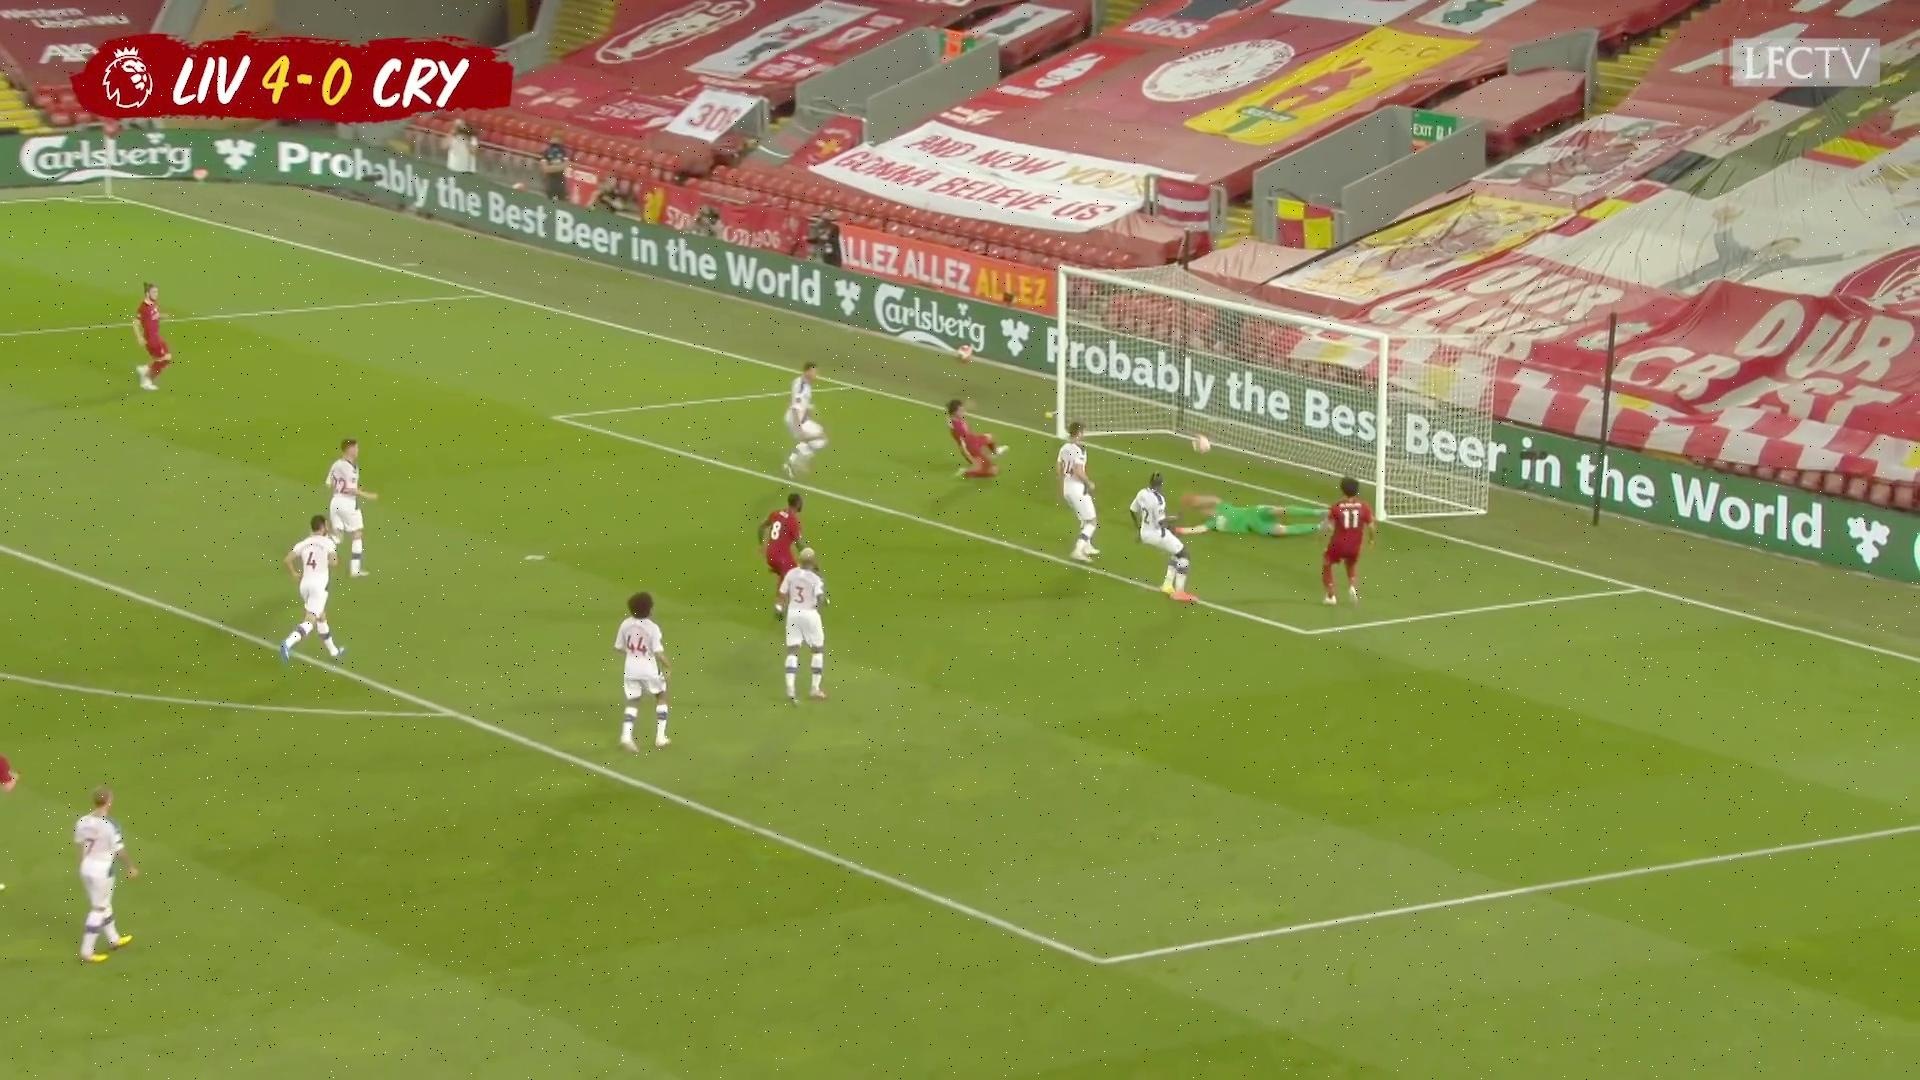ball: (1191, 433, 1211, 455)
